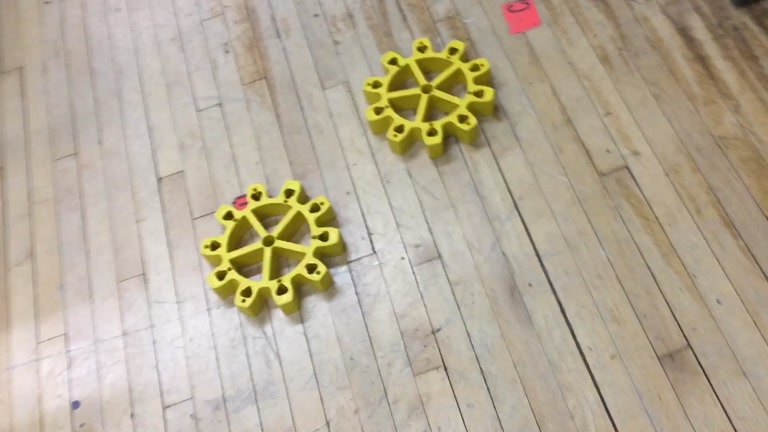gear: (198, 180, 340, 320), (363, 35, 494, 161)
